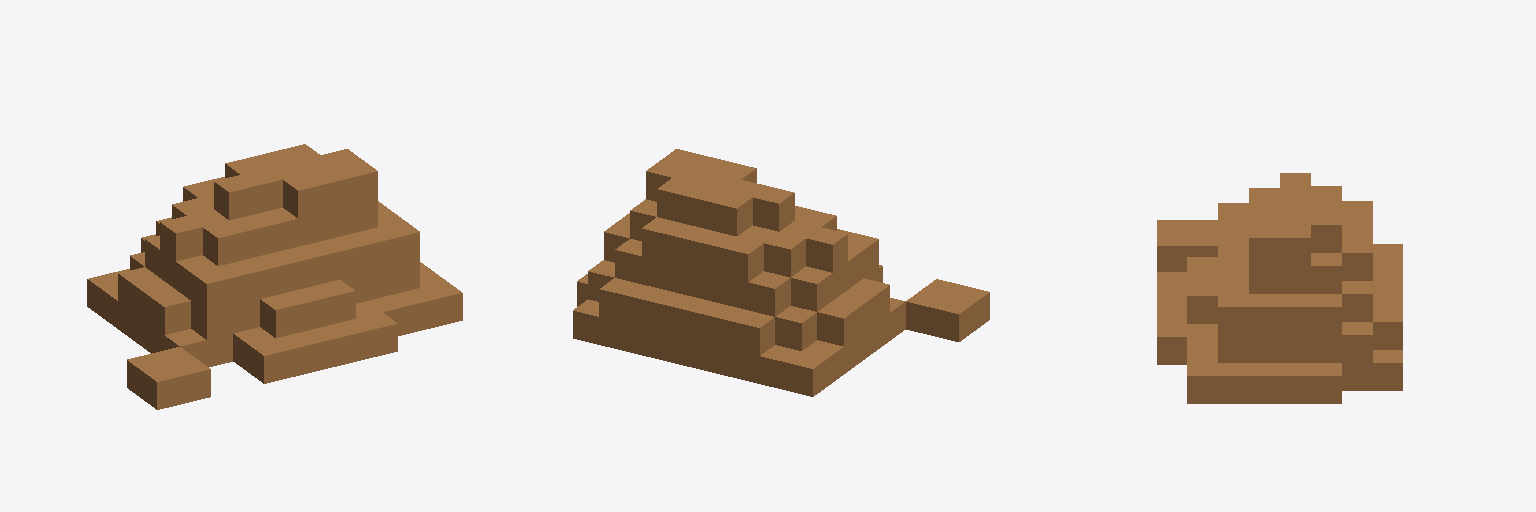
3 views of the same model, side by side, from view 1: azimuth 30°, elevation 25°; view 2: azimuth 150°, elevation 25°; view 3: azimuth 270°, elevation 25° (orthographic).
Visible parts, largest first — view 1: object 1; view 2: object 1; view 3: object 1.
Part boxes in pixels (left/top/right/bottom): object 1: left=87, top=144, right=462, bottom=409; object 1: left=573, top=149, right=989, bottom=396; object 1: left=1157, top=173, right=1402, bottom=403.
Size of the model in its own units: 1.2 by 0.5 by 0.8.
1 materials, 1 textured.